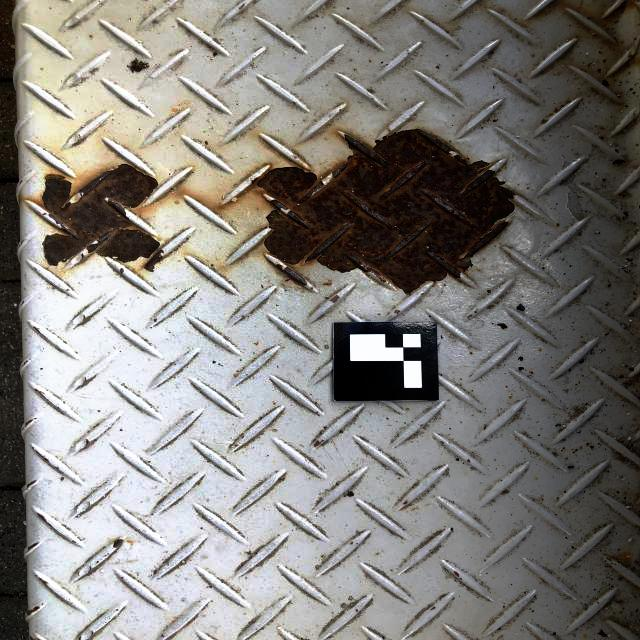Corrosion: (218, 128, 519, 296), (33, 163, 165, 273), (275, 262, 306, 286), (618, 0, 640, 11), (624, 52, 640, 67), (111, 539, 122, 549)
